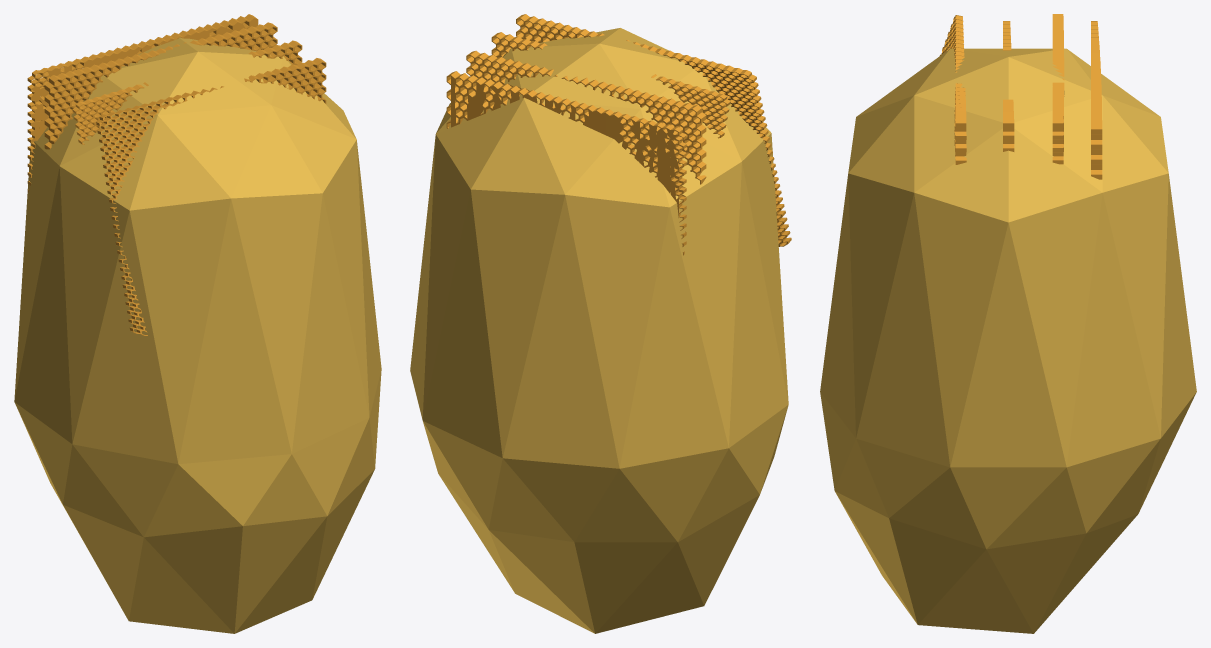
The model's file is Beehive.fbx.
3 views of the same model, side by side, from view 1: azimuth 30°, elevation 25°; view 2: azimuth 150°, elevation 25°; view 3: azimuth 270°, elevation 25° (orthographic). The views are drawn at different scales.
Visible parts, largest first — view 1: Bee_Hive.Low, InsideComb.003, InsideComb.001, InsideComb, InsideComb.002; view 2: Bee_Hive.Low, InsideComb, InsideComb.003, InsideComb.001, InsideComb.002; view 3: Bee_Hive.Low, InsideComb.001, InsideComb, InsideComb.003, InsideComb.002.
Part boxes in pixels (x1=…): Bee_Hive.Low: x1=14, y1=37, x2=381, y2=633; InsideComb.003: x1=96, y1=58, x2=326, y2=335; InsideComb.001: x1=44, y1=22, x2=277, y2=149; InsideComb: x1=27, y1=14, x2=258, y2=192; InsideComb.002: x1=72, y1=40, x2=302, y2=144; Bee_Hive.Low: x1=410, y1=28, x2=788, y2=633; InsideComb: x1=446, y1=71, x2=686, y2=255; InsideComb.003: x1=516, y1=14, x2=791, y2=246; InsideComb.001: x1=466, y1=50, x2=706, y2=184; InsideComb.002: x1=491, y1=32, x2=730, y2=138; Bee_Hive.Low: x1=820, y1=48, x2=1196, y2=633; InsideComb.001: x1=1052, y1=14, x2=1064, y2=164; InsideComb: x1=1091, y1=21, x2=1102, y2=179; InsideComb.003: x1=940, y1=15, x2=966, y2=164; InsideComb.002: x1=1003, y1=21, x2=1014, y2=151.
Size of the model in its own units: 13238 by 22992 by 13919.
